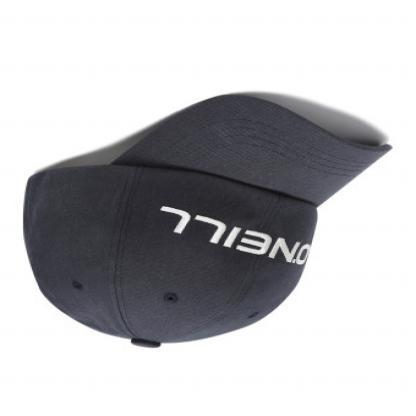cap: (17, 94, 394, 356)
